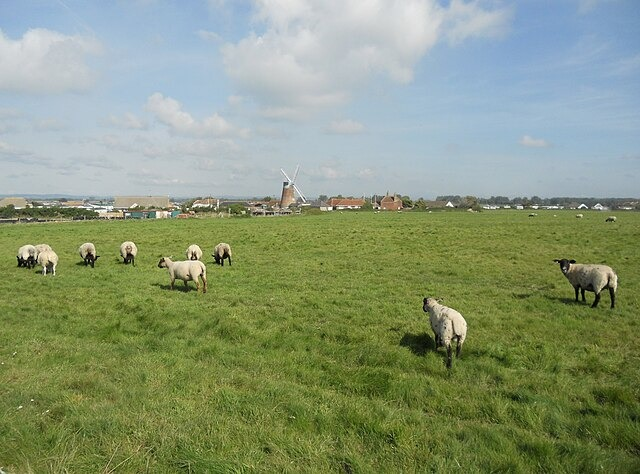grazing: (212, 241, 236, 266)
standing: (553, 255, 620, 311), (421, 293, 471, 359), (159, 255, 208, 296)
